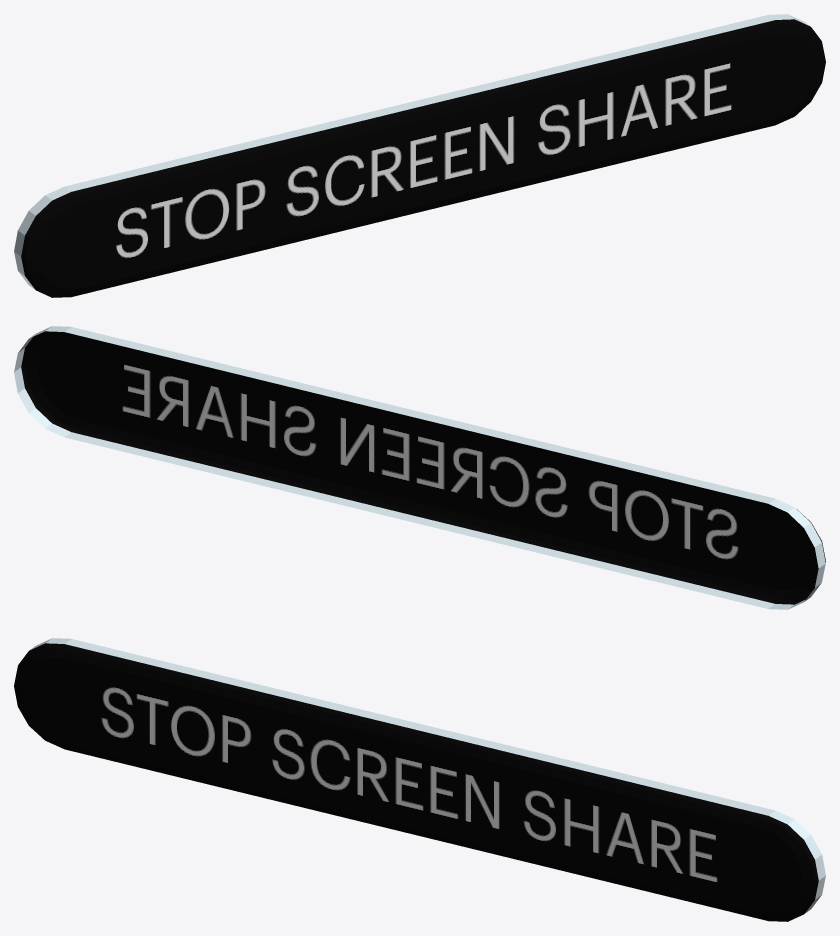
File: button-stop-screen-share.fbx
The picture shows the model from 3 angles, top to bottom: view 1: azimuth 30°, elevation 25°; view 2: azimuth 150°, elevation 25°; view 3: azimuth 330°, elevation 25°; orthographic projection.
Parts seen in each view (by area): view 1: Button-Screenshare; view 2: Button-Screenshare; view 3: Button-Screenshare.
Boxes of the visible parts, x1,y1,x2,y2 form: Button-Screenshare: (14, 14, 825, 297); Button-Screenshare: (14, 326, 825, 609); Button-Screenshare: (14, 638, 825, 921).
Size of the model in its own units: 80.93 by 10.12 by 1.89.
1 material, 1 textured.
